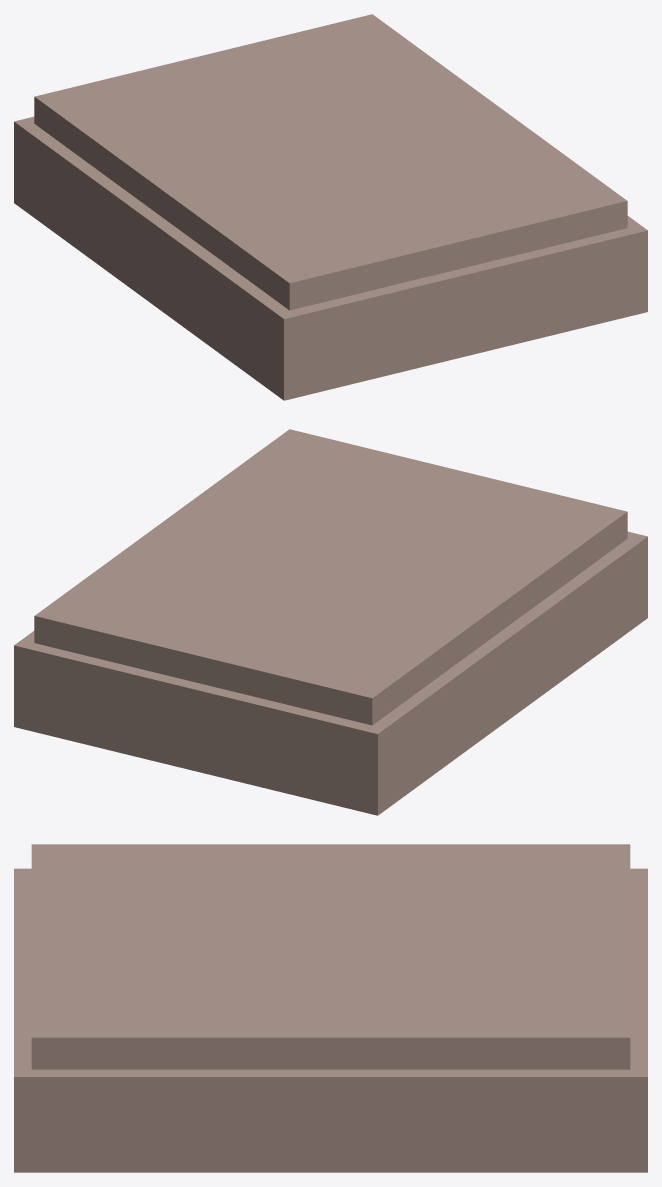
The model's file is prop.glb.
3 renders of one model, top to bottom at view 1: azimuth 30°, elevation 25°; view 2: azimuth 150°, elevation 25°; view 3: azimuth 270°, elevation 25°, orthographic. The views are drawn at different scales.
Parts seen in each view (by area): view 1: Cloth; view 2: Cloth; view 3: Cloth.
Boxes of the visible parts, left/top/right/bottom form: Cloth: left=14, top=14, right=647, bottom=400; Cloth: left=14, top=429, right=647, bottom=815; Cloth: left=14, top=844, right=647, bottom=1172.
Bounding box in the file's own units: 0.28 × 0.08 × 0.36.
